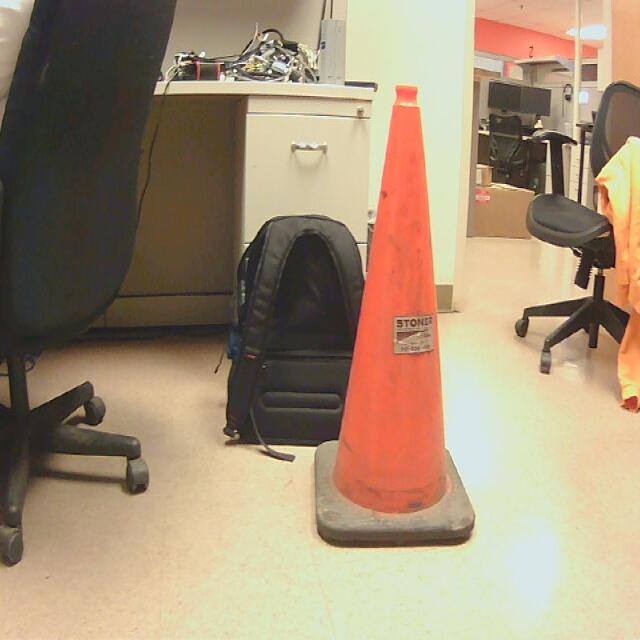traffic cone: (315, 85, 477, 552)
